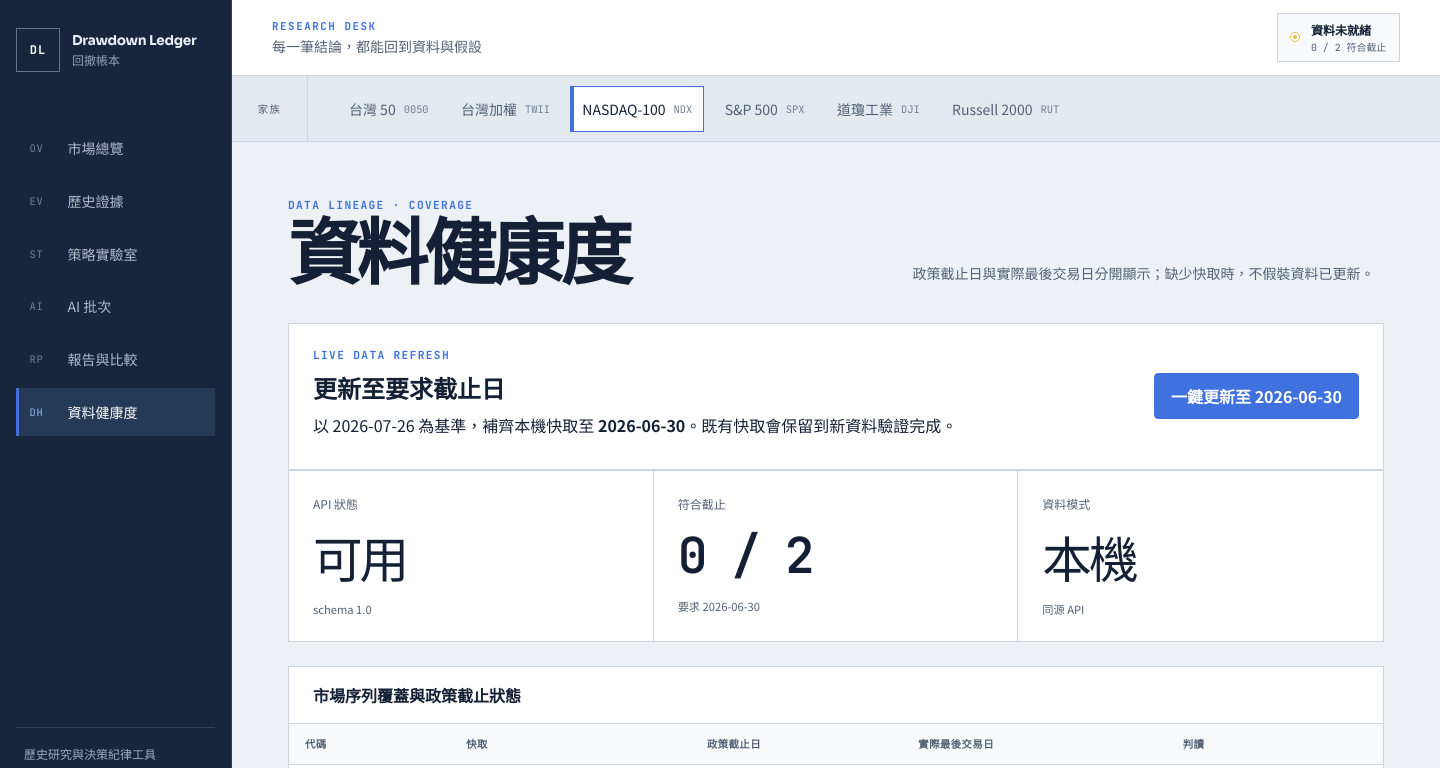
data health route › updates live data to the required cutoff and refetches health and overview
Click the button "一鍵更新至 2026-06-30" at coordinates (1256, 396), box [1154,373,1359,420]
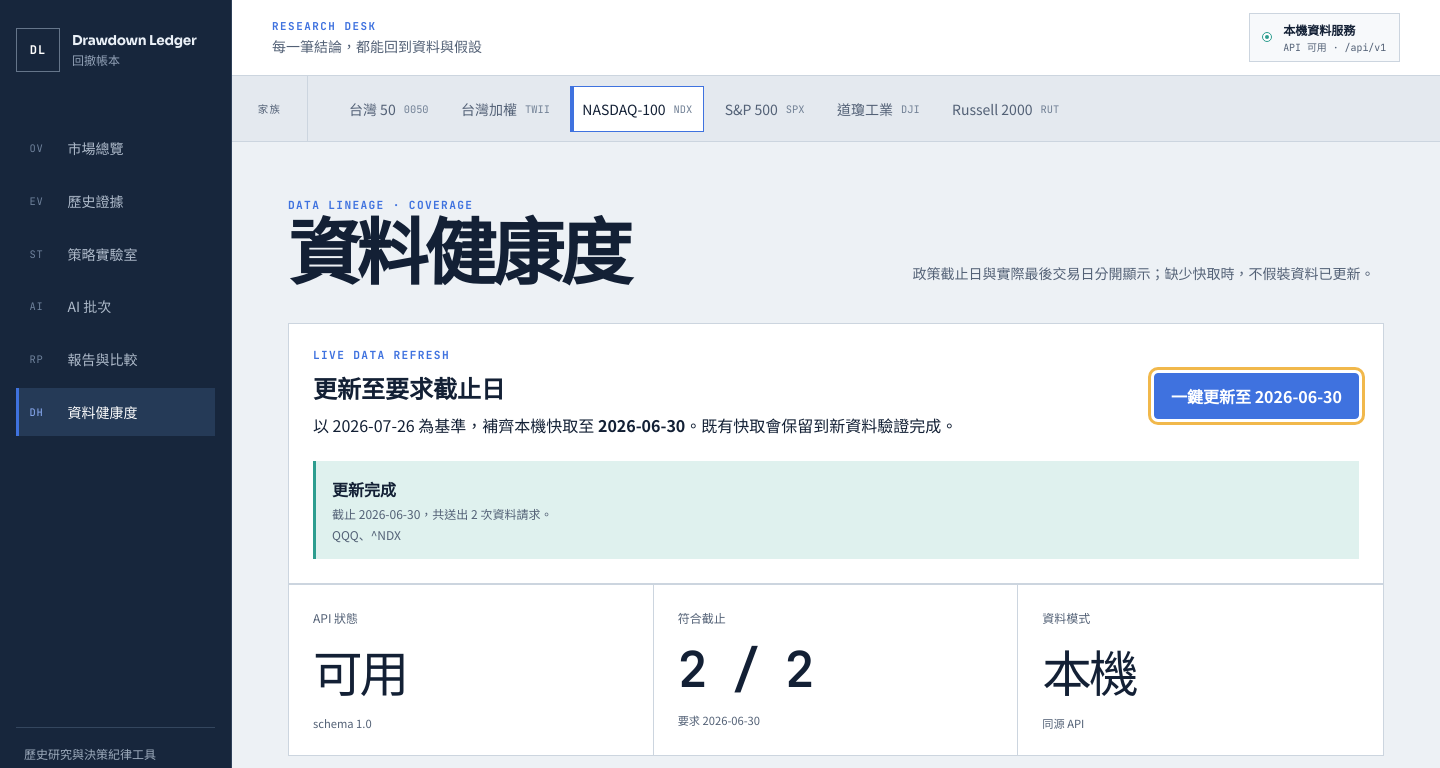
Now the text "更新完成" is shown, box [332,476,396,500]
Now the text "QQQ、^NDX" is shown, box [332,526,401,542]
Now the text "2 / 2" is shown, box [678,636,812,702]
